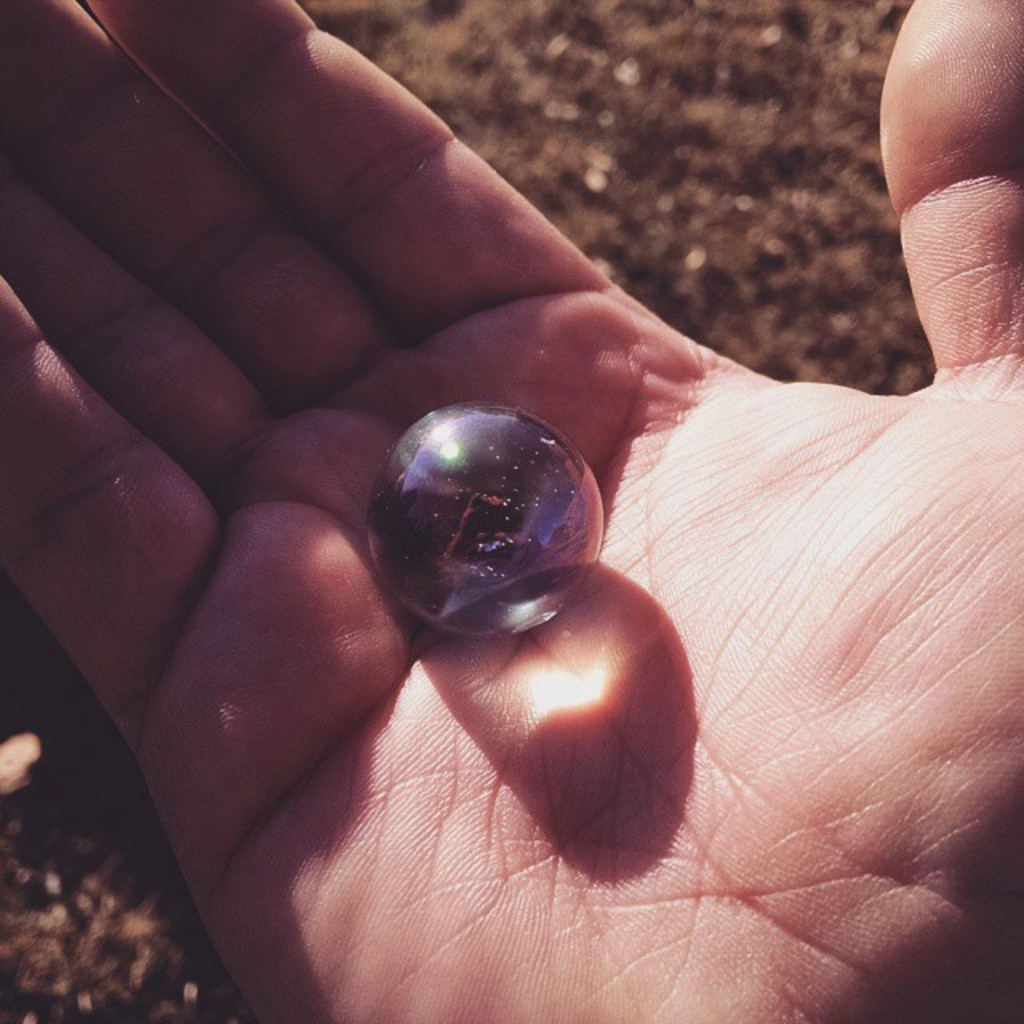Human_hand: (53, 0, 946, 1024)
